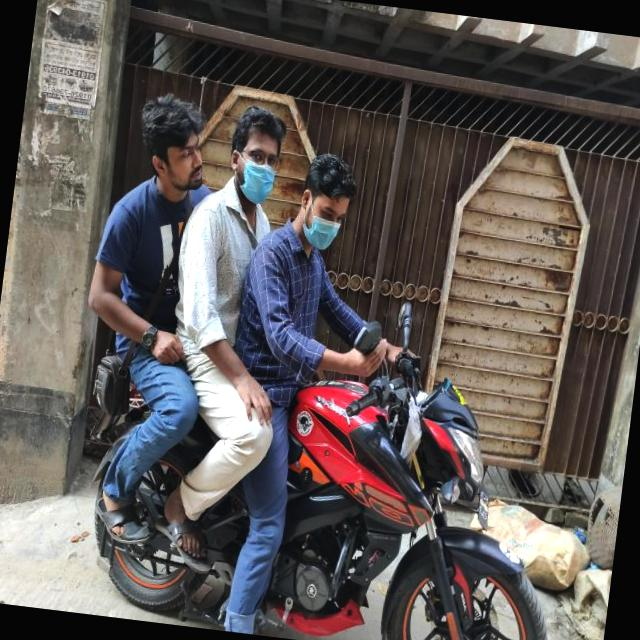motorcycle: (66, 321, 591, 640)
person: (212, 138, 363, 512), (61, 76, 212, 450), (156, 97, 294, 444)
rider_region: (45, 78, 617, 640)
